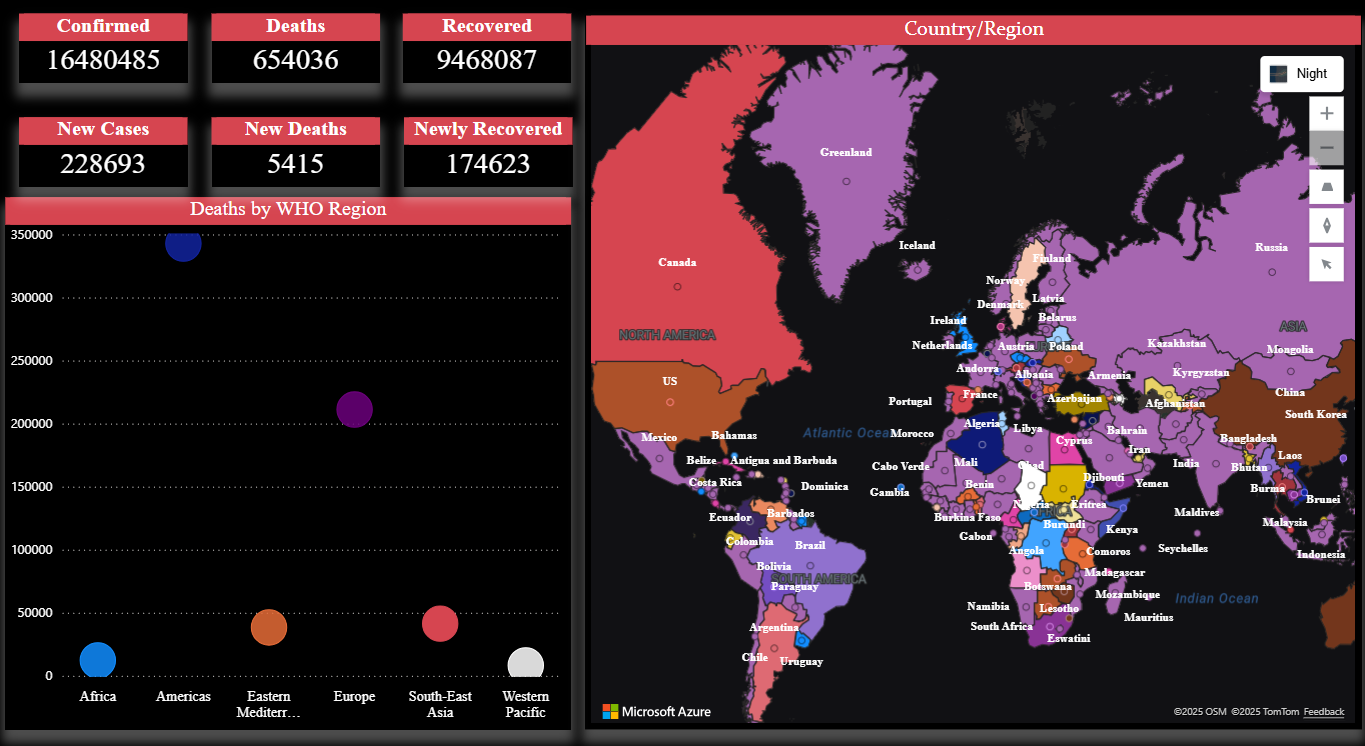

Layout of this report page (visuals, bound fields, positions):
{"tool":"powerbi","page":{"name":"Overview","canvas":[1280,720],"ordinal":0},"visuals":[{"type":"azureMap","fields":{"Category":["country_wise_latest.Country/Region"]},"box":[550,22.1,722.1,665.1],"z":0},{"type":"scatterChart","title":"Deaths by WHO Region","fields":{"X":["country_wise_latest.WHO Region"],"Y":["Sum(country_wise_latest.Deaths)"]},"box":[10.5,191.9,526.7,495.4],"z":1000},{"type":"card","title":"Confirmed","fields":{"Values":["Sum(country_wise_latest.Confirmed)"]},"box":[23.3,20.9,157,65.1],"z":2000},{"type":"card","title":"Recovered","fields":{"Values":["Sum(country_wise_latest.Recovered)"]},"box":[380.2,20.9,157,65.1],"z":3000},{"type":"card","title":"Deaths","fields":{"Values":["Sum(country_wise_latest.Deaths)"]},"box":[202.3,20.9,157,65.1],"z":4000},{"type":"card","title":"Newly Recovered","fields":{"Values":["Sum(country_wise_latest.New recovered)"]},"box":[381.4,117.4,157,65.1],"z":5000},{"type":"card","title":"New Deaths","fields":{"Values":["Sum(country_wise_latest.New deaths)"]},"box":[202.3,117.4,157,65.1],"z":6000},{"type":"card","title":"New Cases","fields":{"Values":["Sum(country_wise_latest.New cases)"]},"box":[23.3,117.4,157,65.1],"z":7000}]}

Visuals, with their boxes in screenshot pixels (x1, y1, x2, y2), scaled from the page's 1280x720 canvas onto the 1365x746 screenshot:
azureMap - country_wise_latest.Country/Region: (x1=587, y1=23, x2=1357, y2=712)
"Deaths by WHO Region" scatterChart: (x1=11, y1=199, x2=573, y2=712)
"Confirmed" card: (x1=25, y1=22, x2=192, y2=89)
"Recovered" card: (x1=405, y1=22, x2=573, y2=89)
"Deaths" card: (x1=216, y1=22, x2=383, y2=89)
"Newly Recovered" card: (x1=407, y1=122, x2=574, y2=189)
"New Deaths" card: (x1=216, y1=122, x2=383, y2=189)
"New Cases" card: (x1=25, y1=122, x2=192, y2=189)
